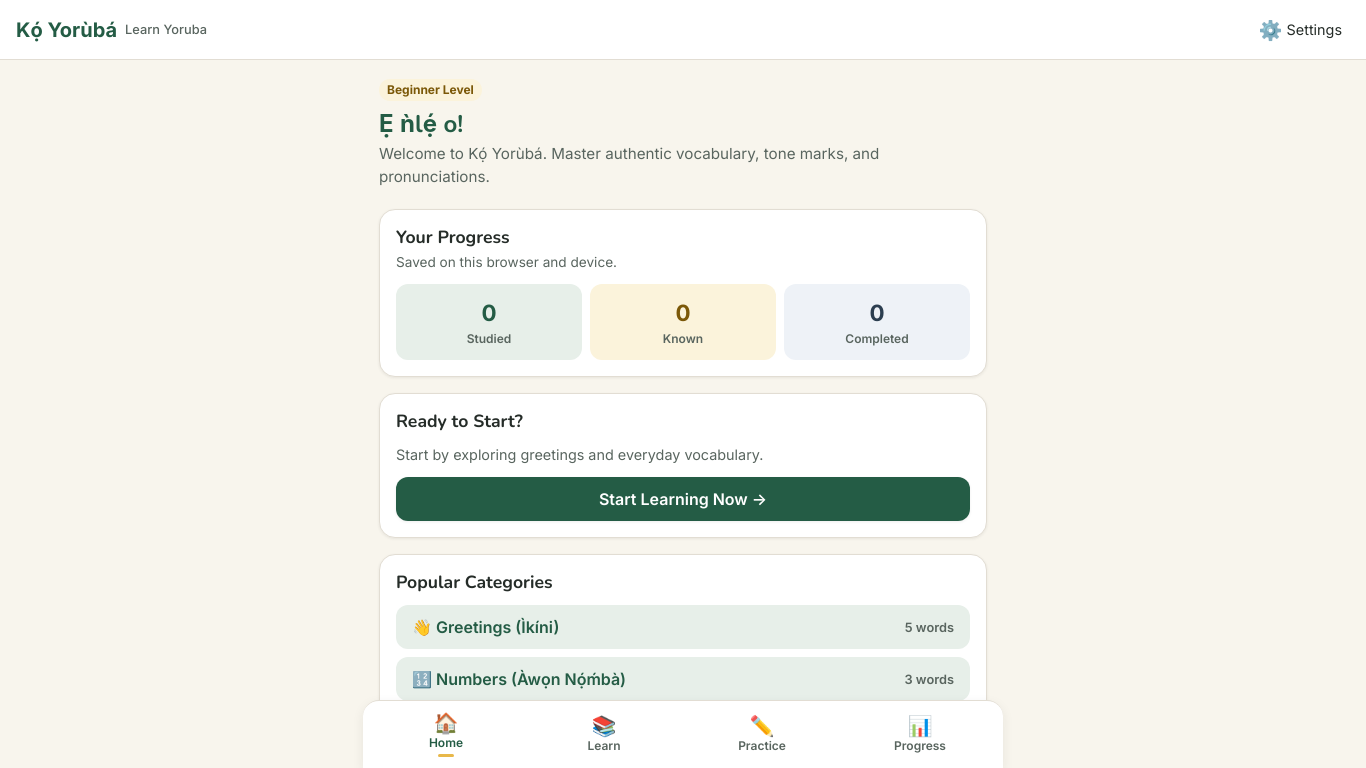
Test: App Shell & Navigation › navigates to Practice screen when Practice tab is clicked
The width and height of the screenshot is (1366, 768).
Click the button "✏️ Practice".
click(762, 734)  # box [683, 701, 841, 767]
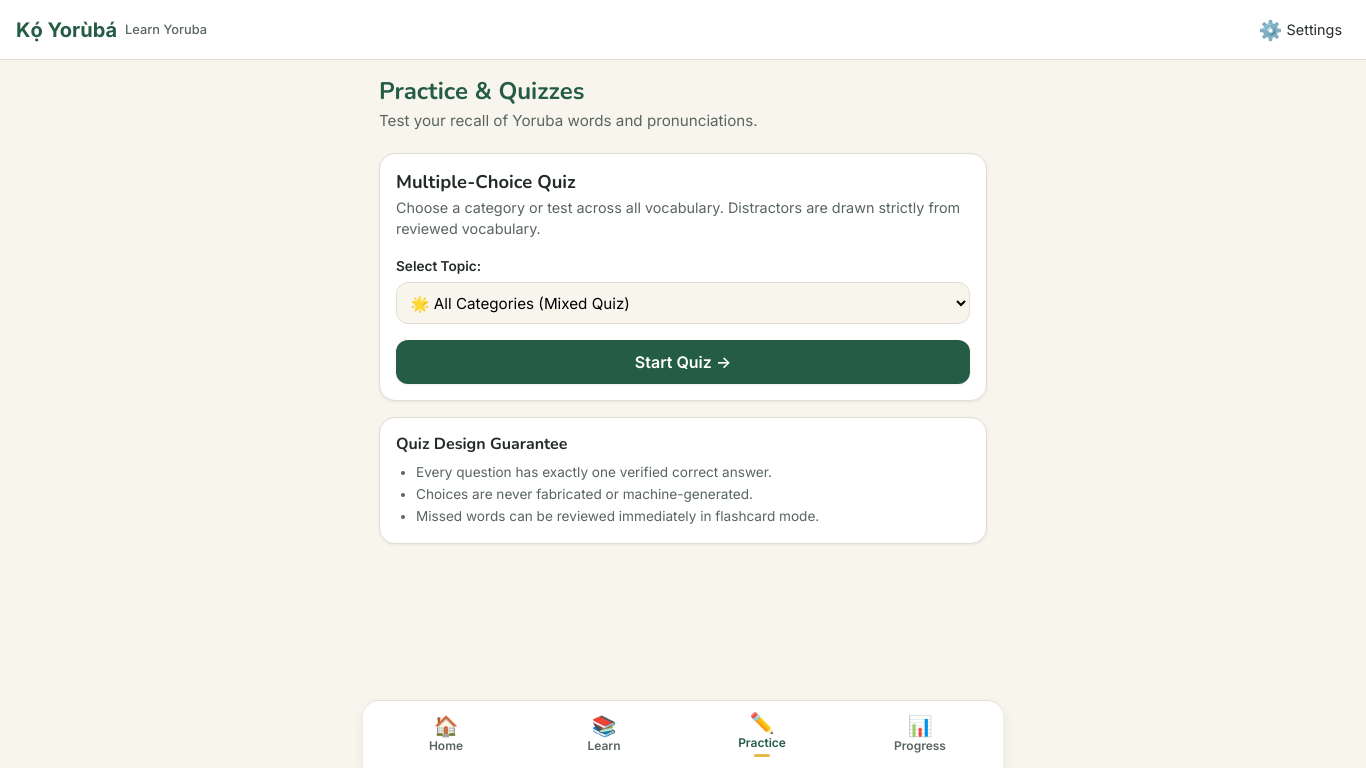
Result: the heading "Practice & Quizzes" is shown at [379, 75, 584, 107]
Result: the heading "Multiple-Choice Quiz" is shown at [396, 169, 576, 194]
